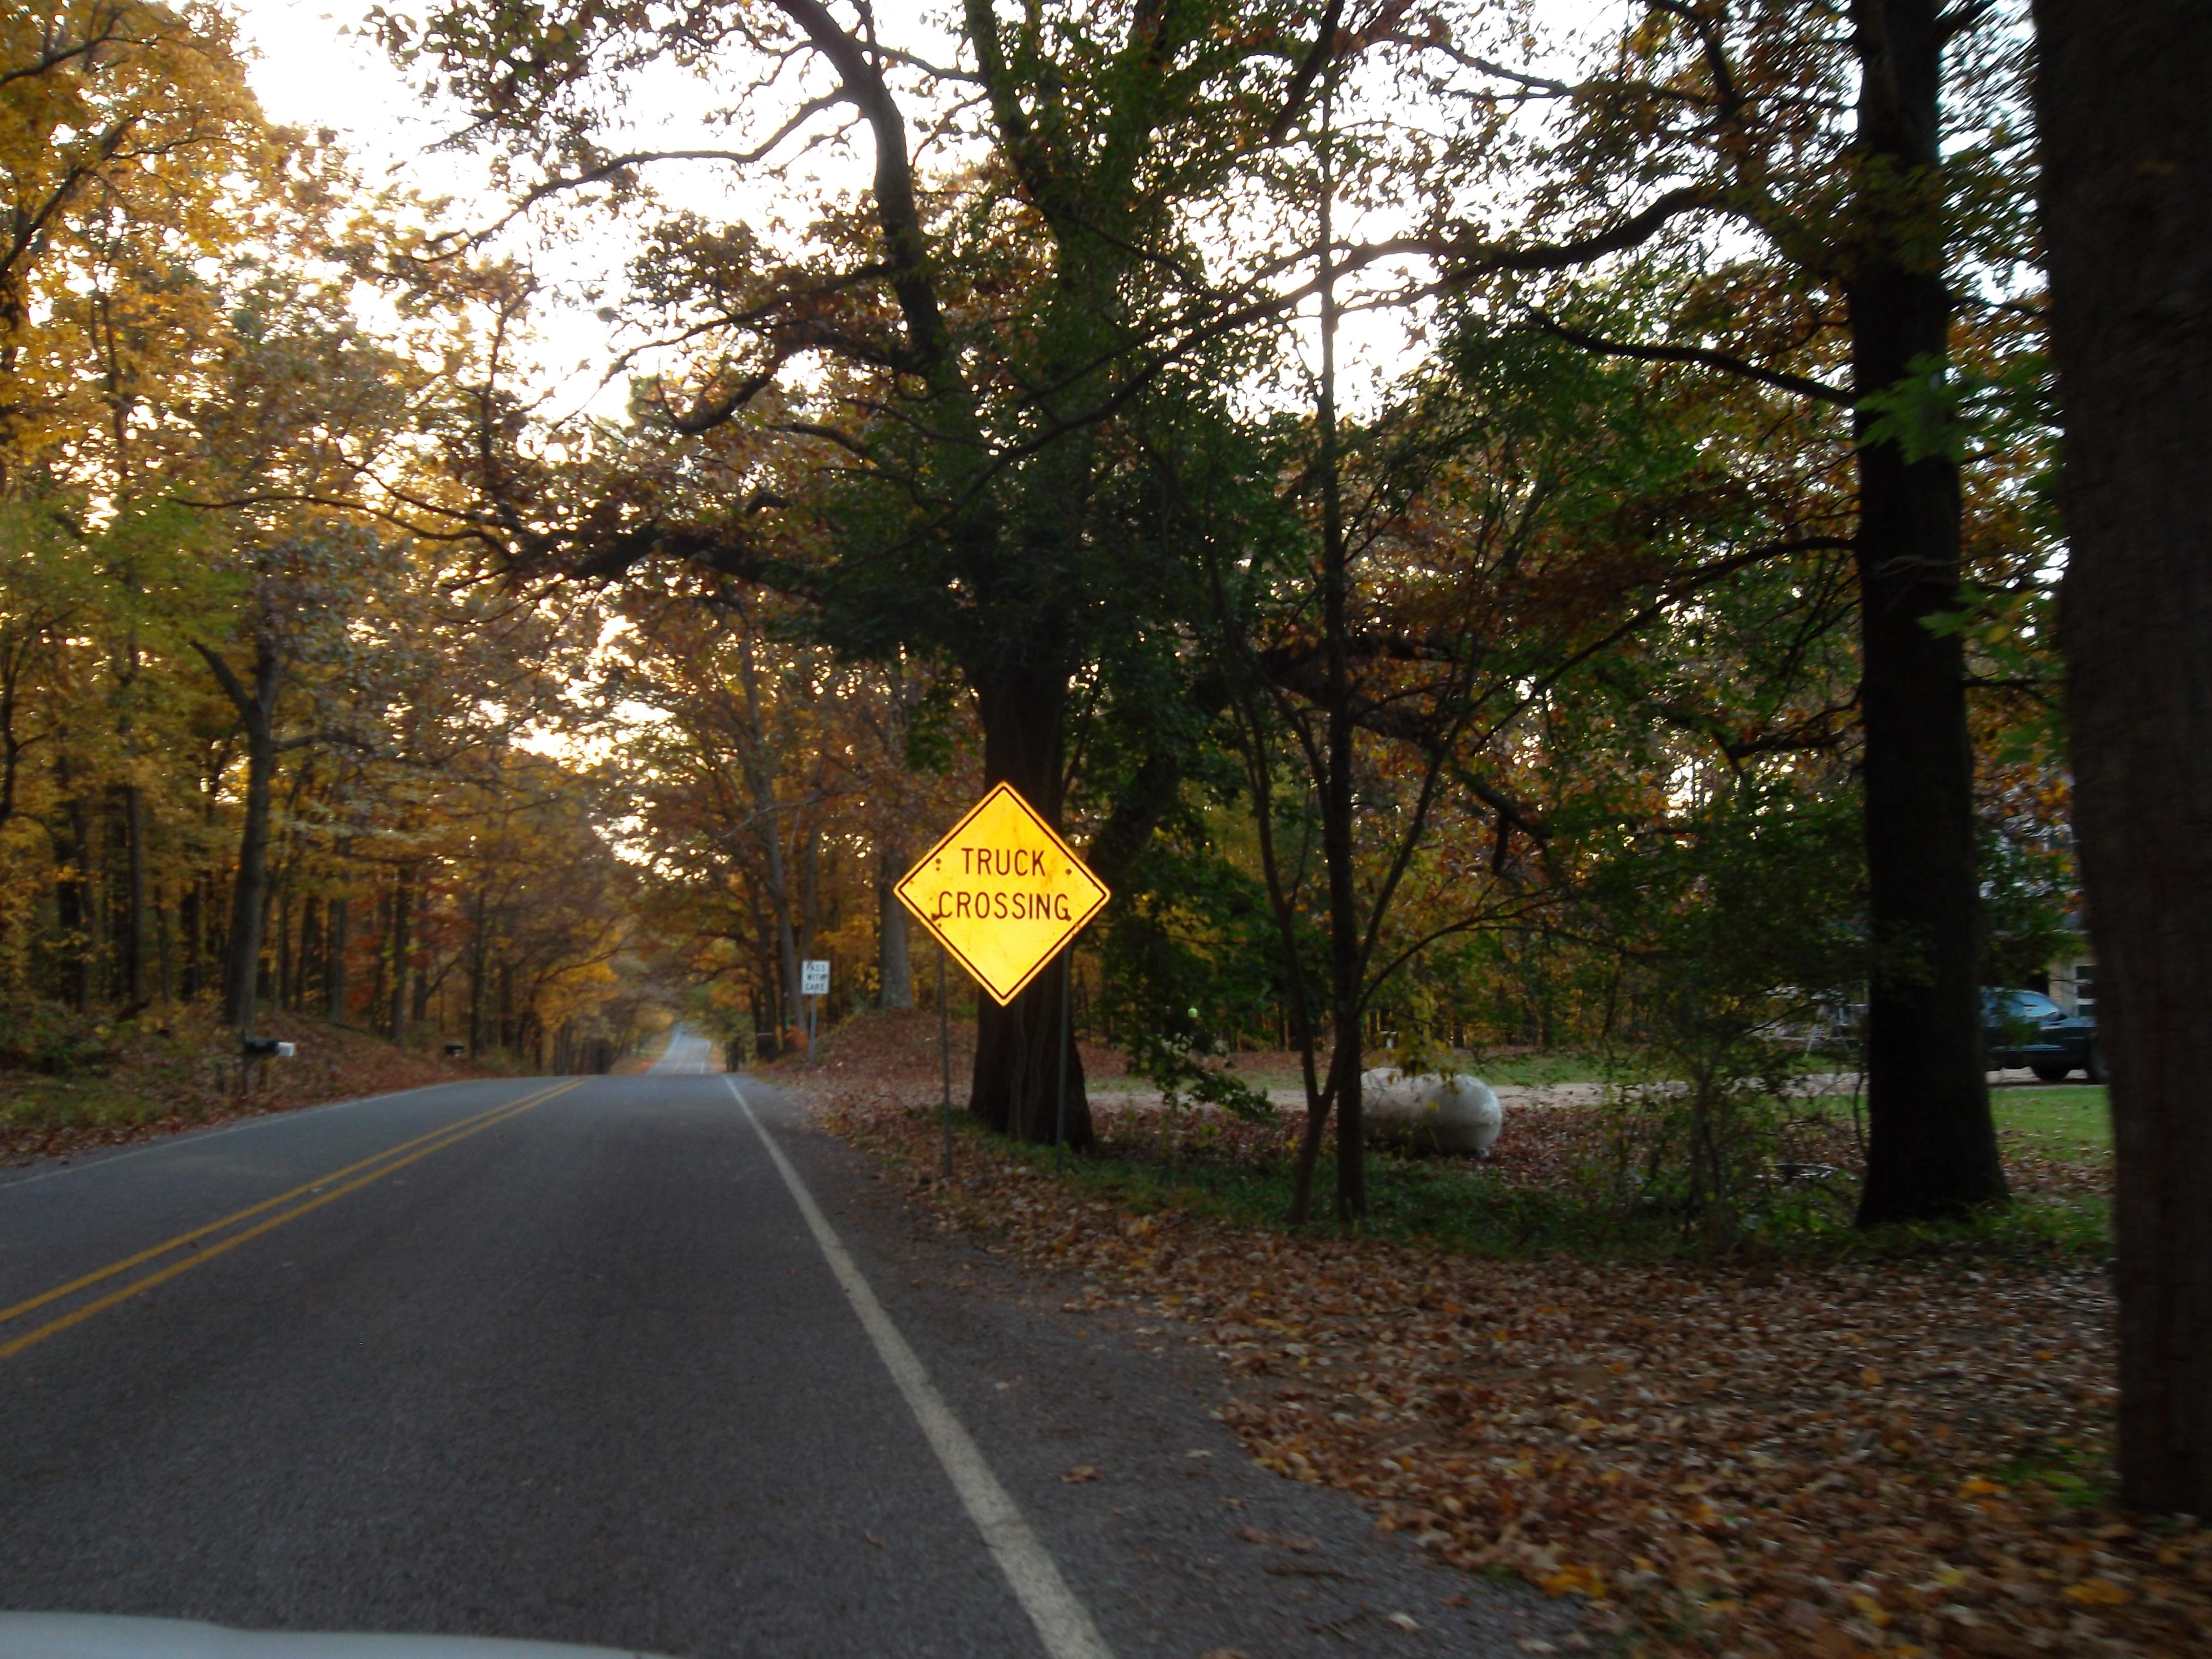warning: (900, 770, 1103, 1007)
